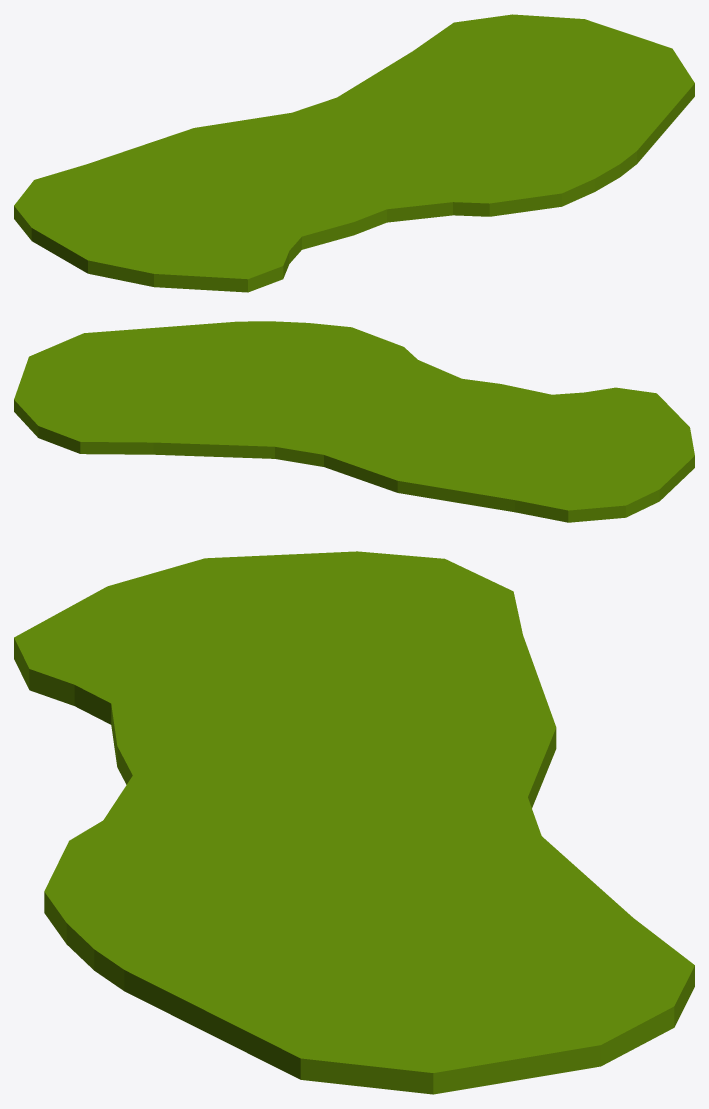
Rendered from Sand 3.FBX.
3 views of the same model, one above another, from view 1: azimuth 30°, elevation 25°; view 2: azimuth 150°, elevation 25°; view 3: azimuth 270°, elevation 25° (orthographic). The views are drawn at different scales.
Parts seen in each view (by area): view 1: Plane001; view 2: Plane001; view 3: Plane001.
Boxes of the visible parts, x1=… form: Plane001: x1=14, y1=14, x2=694, y2=292; Plane001: x1=14, y1=321, x2=694, y2=522; Plane001: x1=14, y1=551, x2=694, y2=1094.
Size of the model in its own units: 114 by 2.18 by 62.96.
